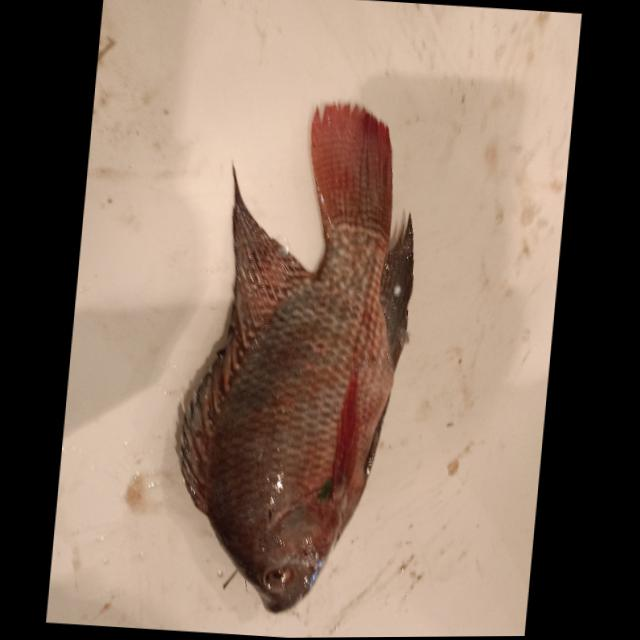Tilapia: (159, 95, 431, 624)
